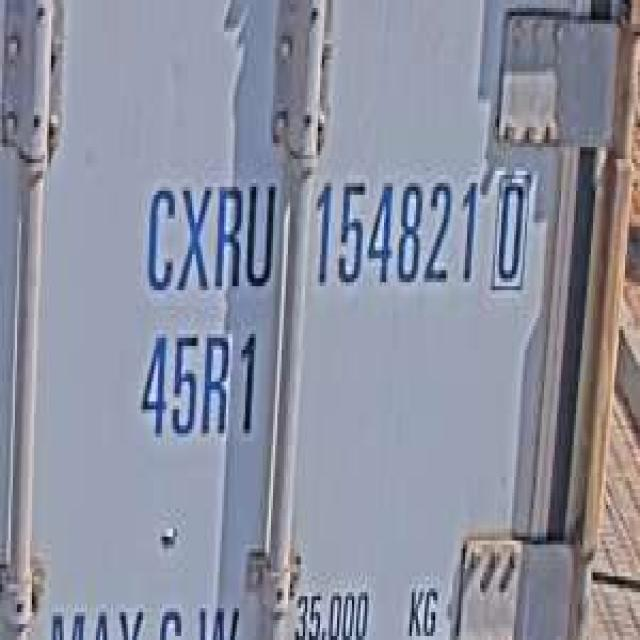dv: (488, 159, 534, 298)
owner: (139, 163, 275, 302)
serial: (305, 155, 482, 302)
size: (132, 318, 262, 453)
